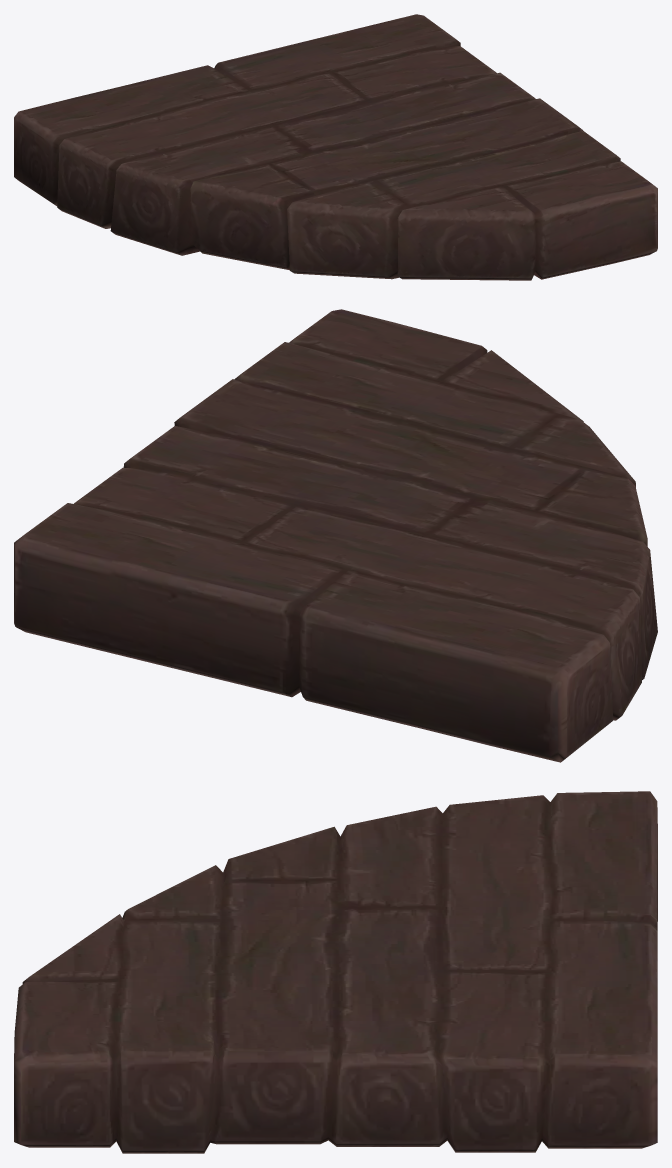
3 views of the same model, one above another, from view 1: azimuth 30°, elevation 25°; view 2: azimuth 150°, elevation 25°; view 3: azimuth 270°, elevation 25° (orthographic). The views are drawn at different scales.
Bounding box in the file's own units: 4.99 × 0.8661 × 5.01.
Materials: 1 (1 with a texture image).
